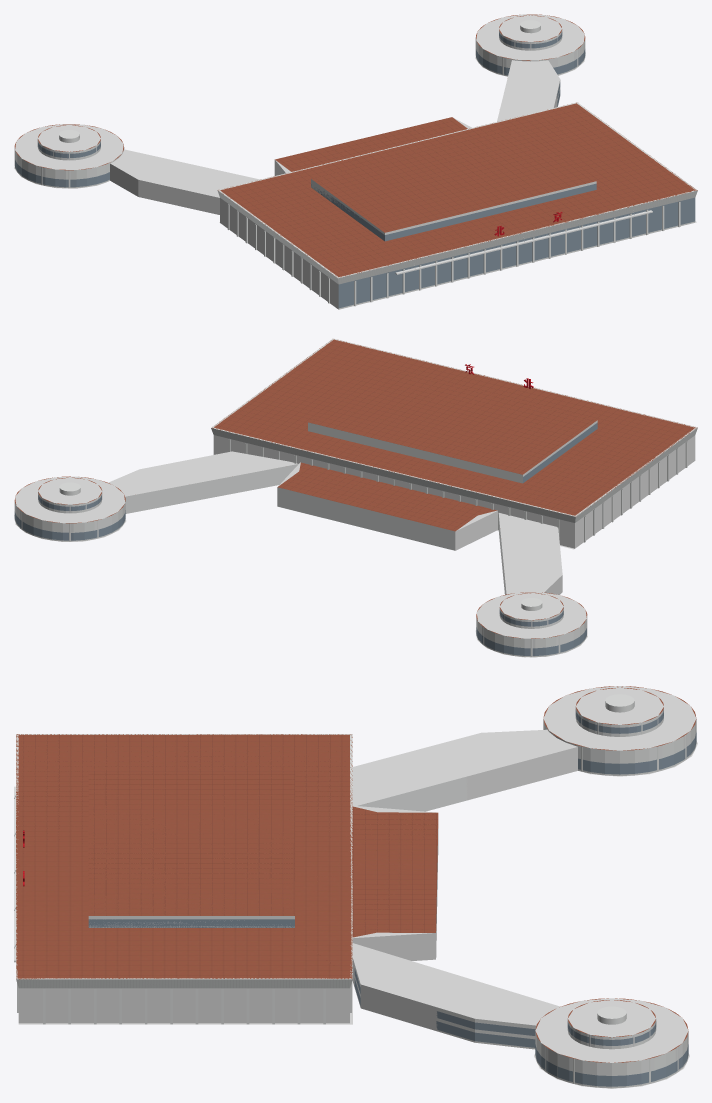
3 views of the same model, one above another, from view 1: azimuth 30°, elevation 25°; view 2: azimuth 150°, elevation 25°; view 3: azimuth 270°, elevation 25° (orthographic). The views are drawn at different scales.
Visible parts, largest first — view 1: T1, Far, COL_cor_w, COL_cor_e, COL_block, COL_sat1, COL_sat0, COL_sat1top, COL_sat0top; view 2: T1, Far, COL_block, COL_cor_w, COL_cor_e, COL_sat0, COL_sat1, COL_sat0top, COL_sat1top, COL_link; view 3: T1, Far, COL_block, COL_cor_w, COL_cor_e, COL_sat1, COL_sat0, COL_sat1top, COL_sat0top, COL_link, CLEAR_block.
Part boxes in pixels (bbox=[...]): T1: bbox=[14, 14, 697, 309]; Far: bbox=[14, 14, 694, 276]; COL_cor_w: bbox=[110, 149, 259, 214]; COL_cor_e: bbox=[497, 60, 560, 121]; COL_block: bbox=[220, 198, 338, 309]; COL_sat1: bbox=[476, 14, 584, 60]; COL_sat0: bbox=[15, 124, 123, 169]; COL_sat1top: bbox=[499, 15, 561, 50]; COL_sat0top: bbox=[37, 125, 100, 158]; T1: bbox=[14, 338, 697, 657]; Far: bbox=[15, 340, 693, 657]; COL_block: bbox=[213, 435, 695, 548]; COL_cor_w: bbox=[498, 513, 562, 594]; COL_cor_e: bbox=[108, 451, 297, 496]; COL_sat0: bbox=[476, 592, 586, 638]; COL_sat1: bbox=[15, 476, 125, 523]; COL_sat0top: bbox=[499, 593, 563, 628]; COL_sat1top: bbox=[38, 477, 101, 512]; COL_link: bbox=[278, 462, 497, 550]; T1: bbox=[14, 686, 696, 1088]; Far: bbox=[18, 690, 686, 1083]; COL_block: bbox=[18, 988, 349, 1023]; COL_cor_w: bbox=[352, 729, 577, 805]; COL_cor_e: bbox=[352, 943, 560, 1031]; COL_sat1: bbox=[535, 998, 688, 1078]; COL_sat0: bbox=[543, 686, 696, 750]; COL_sat1top: bbox=[568, 1000, 655, 1046]; COL_sat0top: bbox=[576, 687, 663, 734]; COL_link: bbox=[352, 805, 435, 960]; CLEAR_block: bbox=[18, 981, 352, 1024].
Size of the model in its own units: 304 by 22.2 by 232.
Materials: 8 (2 with a texture image).
